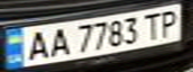3: (121, 14, 145, 45)
7: (69, 21, 93, 54), (90, 19, 112, 51)
8: (106, 17, 127, 47)
A: (21, 28, 51, 62), (45, 25, 72, 57)
P: (154, 7, 184, 38)
T: (139, 10, 166, 40)
